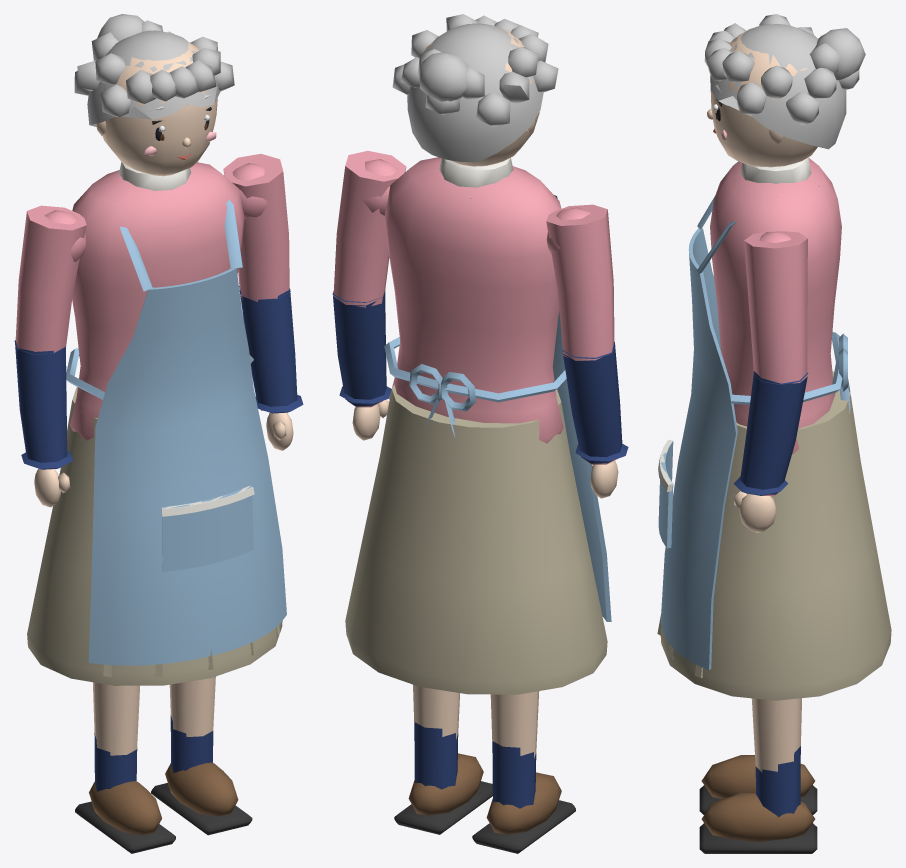
The model's file is shopkeeper.glb.
3 renders of one model, left to right at view 1: azimuth 30°, elevation 25°; view 2: azimuth 150°, elevation 25°; view 3: azimuth 270°, elevation 25°, orthographic. The views are drawn at different scales.
Visible parts, largest first — view 1: shopkeeper_body, shopkeeper_arm_l, shopkeeper_arm_r, shopkeeper_leg_l, shopkeeper_leg_r; view 2: shopkeeper_body, shopkeeper_arm_l, shopkeeper_arm_r, shopkeeper_leg_l, shopkeeper_leg_r; view 3: shopkeeper_body, shopkeeper_arm_r, shopkeeper_leg_r, shopkeeper_leg_l.
Boxes of the visible parts, x1,y1,x2,y2 form: shopkeeper_body: [27, 14, 286, 685]; shopkeeper_arm_l: [14, 205, 86, 507]; shopkeeper_arm_r: [223, 153, 303, 450]; shopkeeper_leg_l: [75, 682, 175, 853]; shopkeeper_leg_r: [151, 676, 252, 835]; shopkeeper_body: [345, 14, 611, 694]; shopkeeper_arm_l: [546, 204, 628, 498]; shopkeeper_arm_r: [332, 150, 406, 440]; shopkeeper_leg_l: [472, 691, 575, 853]; shopkeeper_leg_r: [394, 684, 492, 834]; shopkeeper_body: [657, 14, 891, 700]; shopkeeper_arm_r: [733, 231, 808, 532]; shopkeeper_leg_r: [699, 698, 817, 853]; shopkeeper_leg_l: [699, 755, 817, 814].
Bounding box in the file's own units: 0.6213 × 1.67 × 0.4449.
